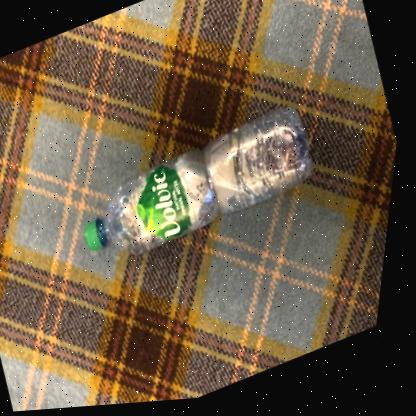Plastic: (91, 111, 318, 256)
